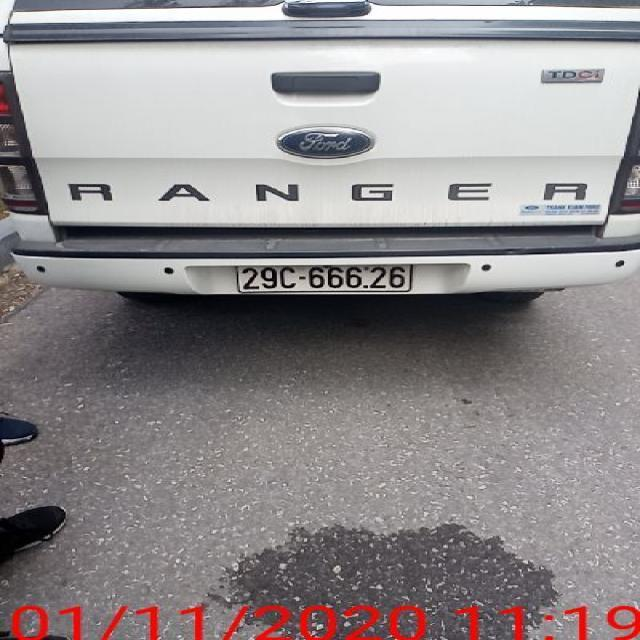bien_so_oto: (234, 263, 413, 293)
